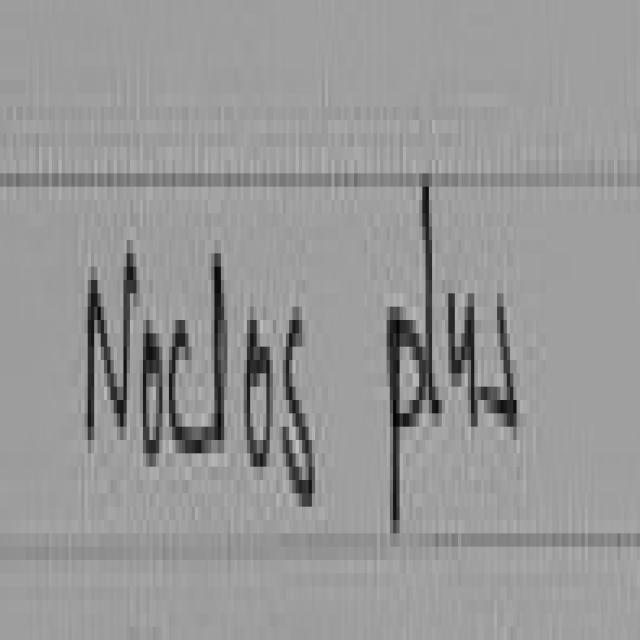N: (88, 253, 136, 433)
c: (169, 320, 211, 453)
l: (426, 187, 442, 413), (214, 253, 227, 433)
o: (247, 320, 273, 467), (143, 333, 162, 467)
p: (390, 307, 426, 527)
s: (286, 320, 315, 507), (481, 293, 520, 427)
u: (452, 293, 481, 427)
